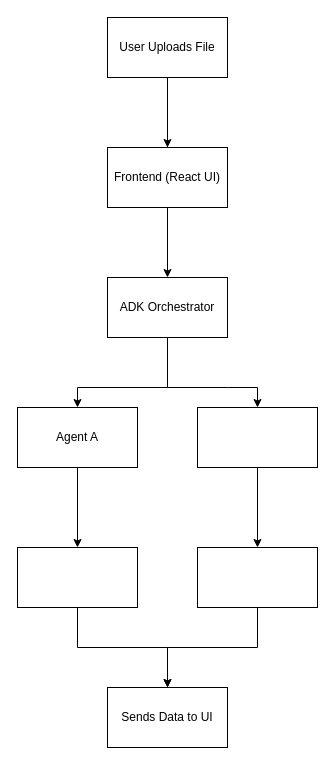
Image size: 335x765. Some labels were removed from this diagram. The shapes that lost their labels are listed below. From the top down, each one's box as (x1, y1, x2, y2) in pixels, then its label:
(196, 406, 318, 468): Agent B
(16, 546, 138, 608): Big Query
(196, 546, 318, 608): Result Generator
